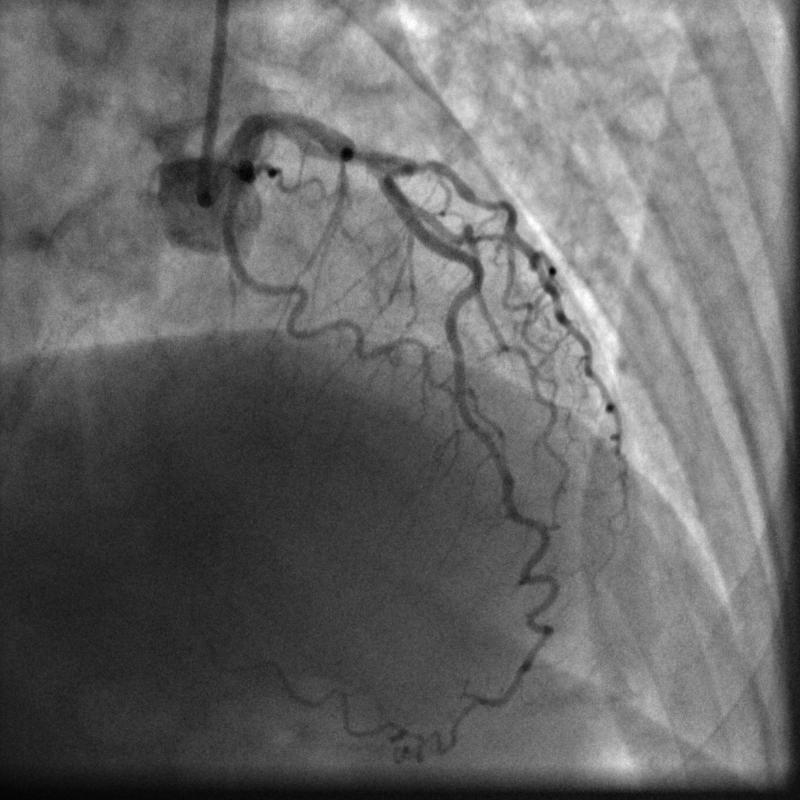Stenosis: (351, 140, 377, 178)
